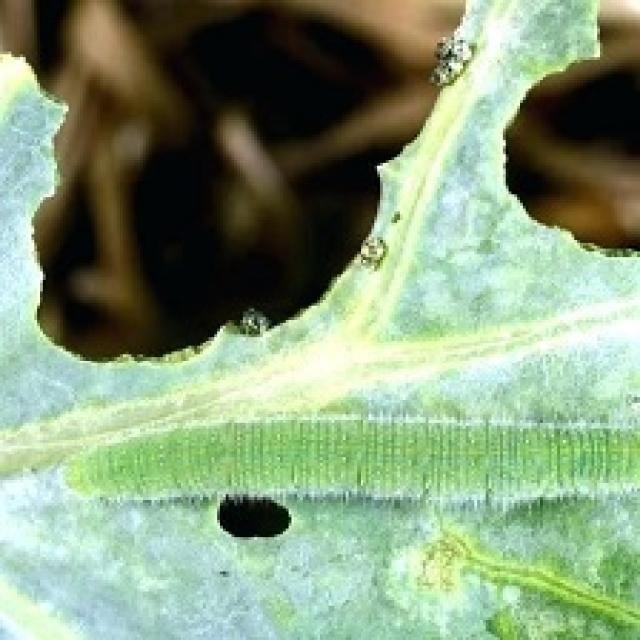Cabbage-worm: (77, 414, 640, 526)
